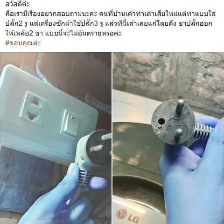three_eye_plug: (0, 58, 101, 168)
